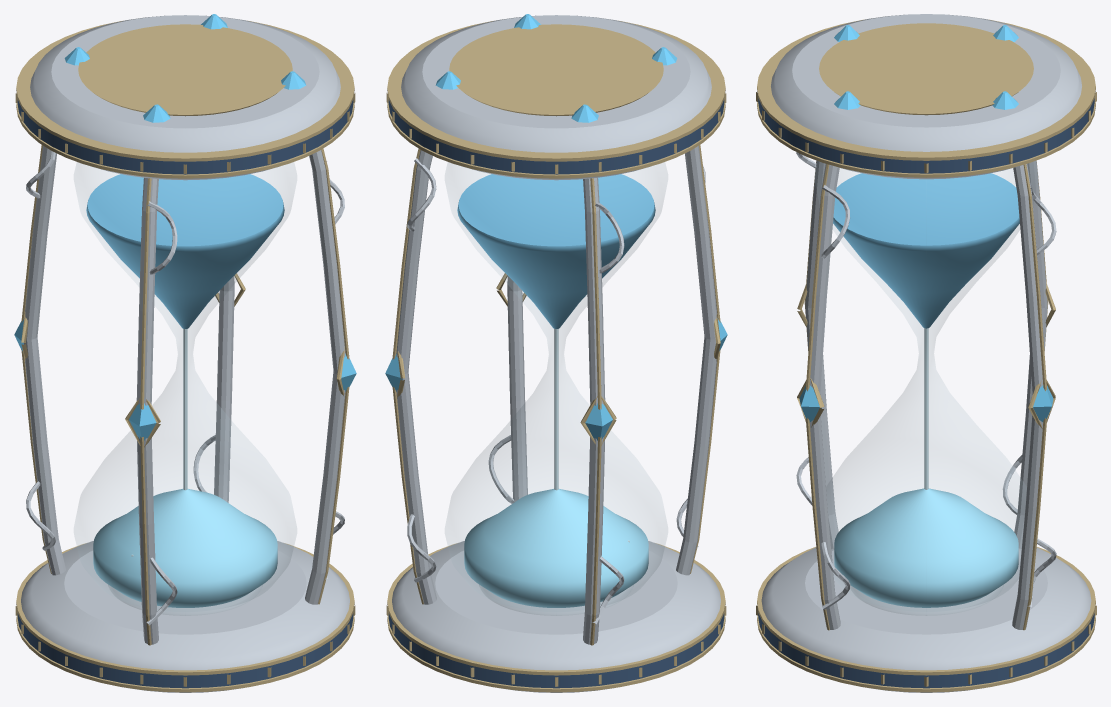
Rendered from Aurora_Hourglass.glb.
3 views of the same model, side by side, from view 1: azimuth 30°, elevation 25°; view 2: azimuth 150°, elevation 25°; view 3: azimuth 270°, elevation 25° (orthographic).
Visible parts, largest first — view 1: Aurora_Hourglass; view 2: Aurora_Hourglass; view 3: Aurora_Hourglass.
Boxes of the visible parts, x1,y1,x2,y2 form: Aurora_Hourglass: (14,14,356,692); Aurora_Hourglass: (385,14,727,692); Aurora_Hourglass: (756,14,1096,692).
Bounding box in the file's own units: 0.2916 × 0.549 × 0.2916.
